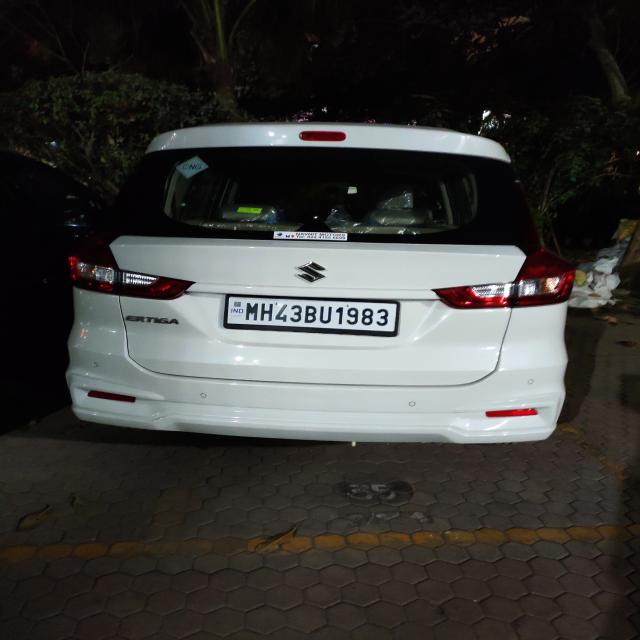Number-Plate: (230, 297, 398, 332)
